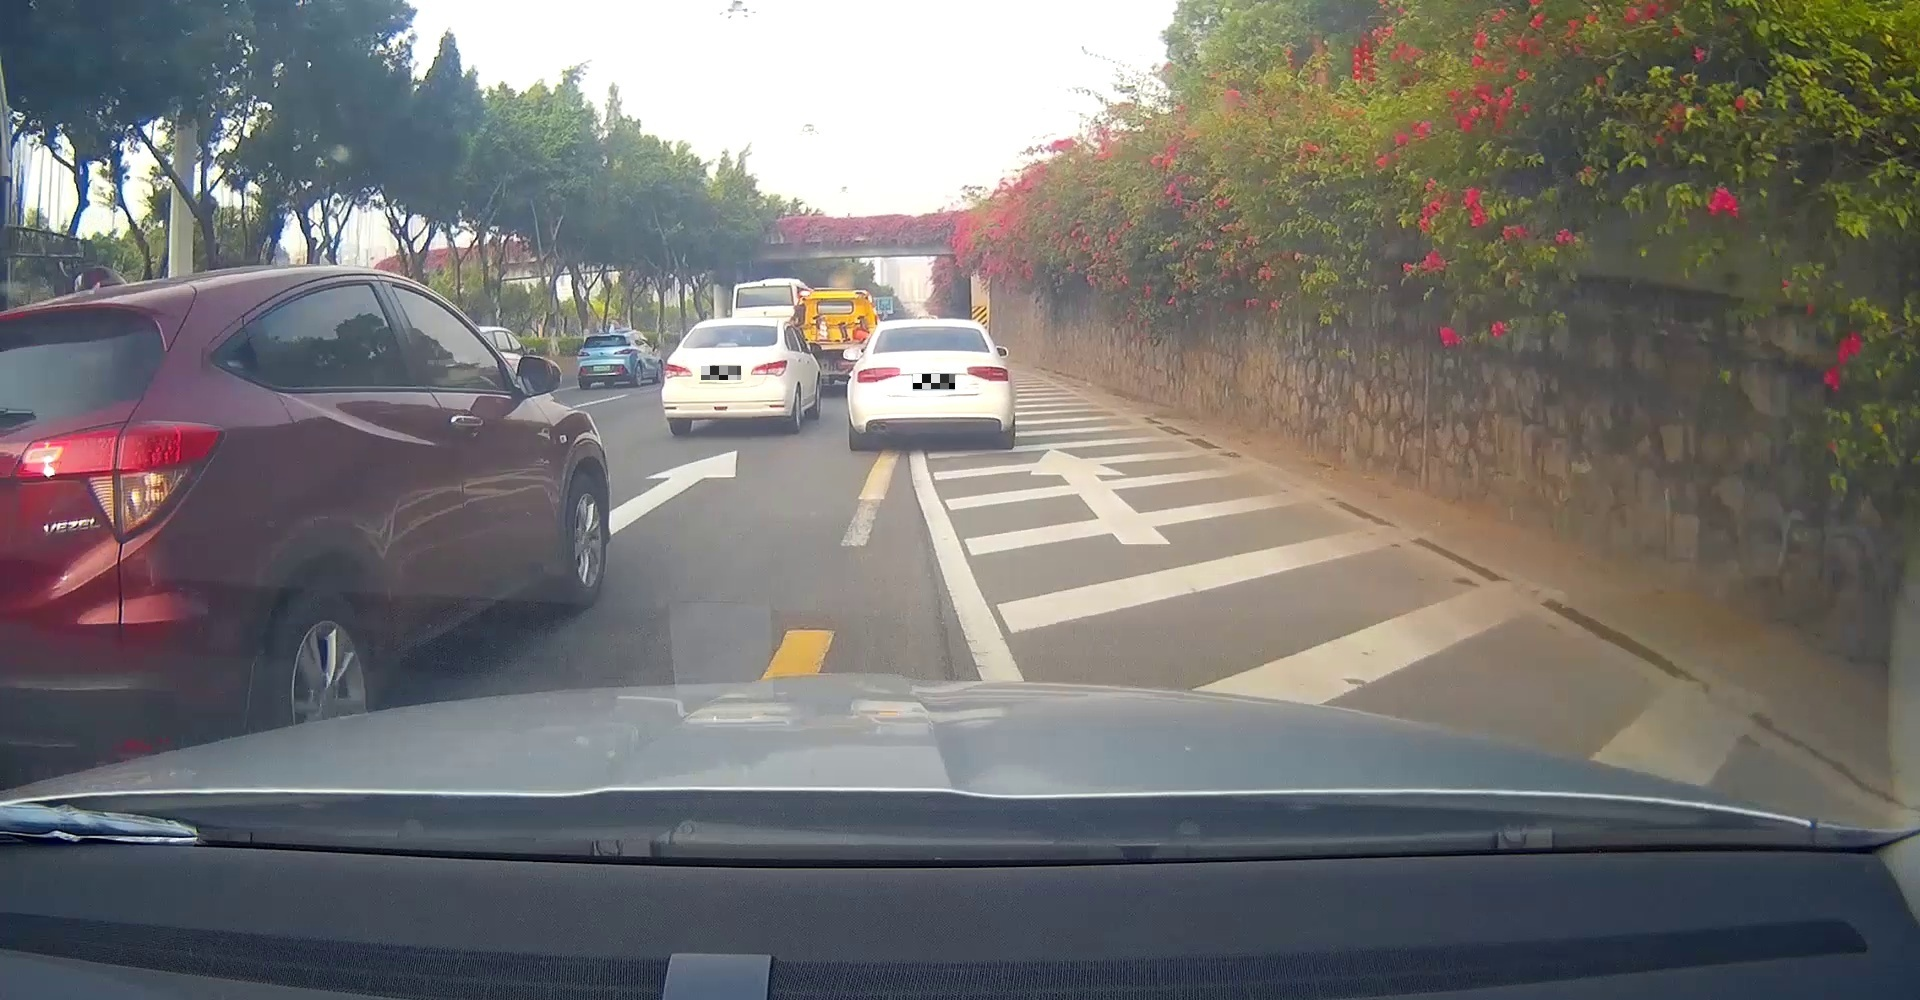L_light: (855, 367, 902, 383), (663, 363, 692, 379), (577, 350, 589, 357)
R_light: (968, 365, 1010, 382), (750, 359, 787, 376), (615, 346, 634, 354)
T_light: (716, 341, 738, 346), (916, 326, 943, 330), (599, 335, 610, 338)
day-no: (855, 322, 1012, 451), (662, 319, 790, 437), (575, 331, 637, 390)
plate_1: (701, 365, 742, 379)
plate_2: (913, 374, 955, 390)
